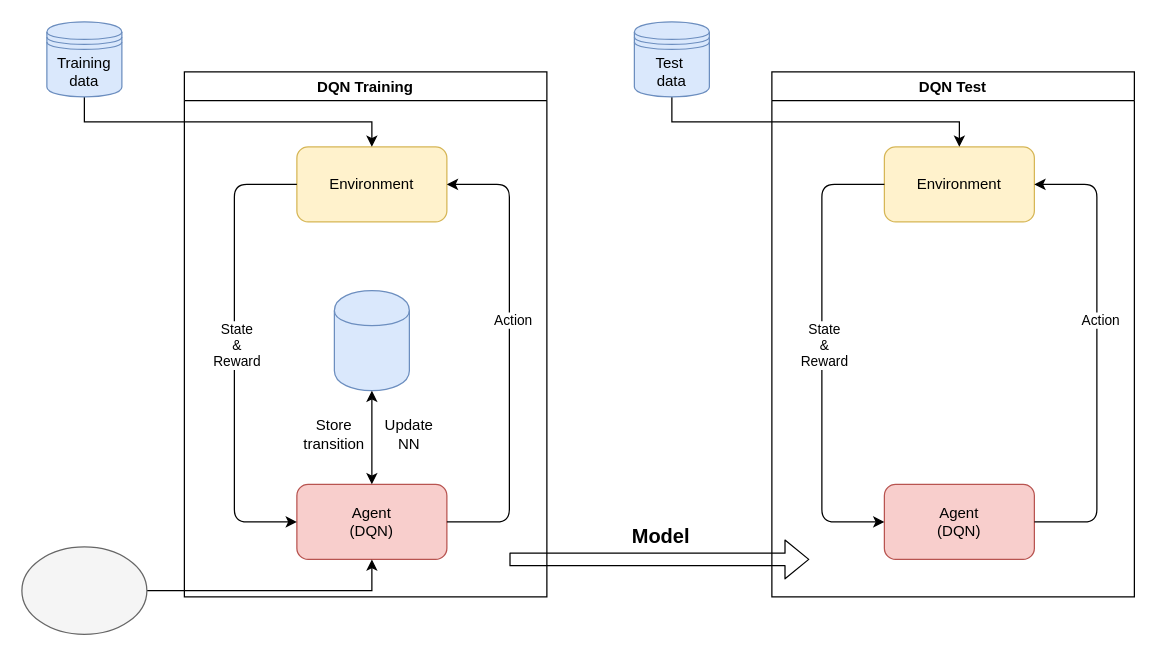
This 1156x656 diagram has some shape labels left out. The centre of each missing label's shape, as x and y in pixels:
"Initial weights" belongs at point 84,590.
"Replay buffer" belongs at point 371,340.
